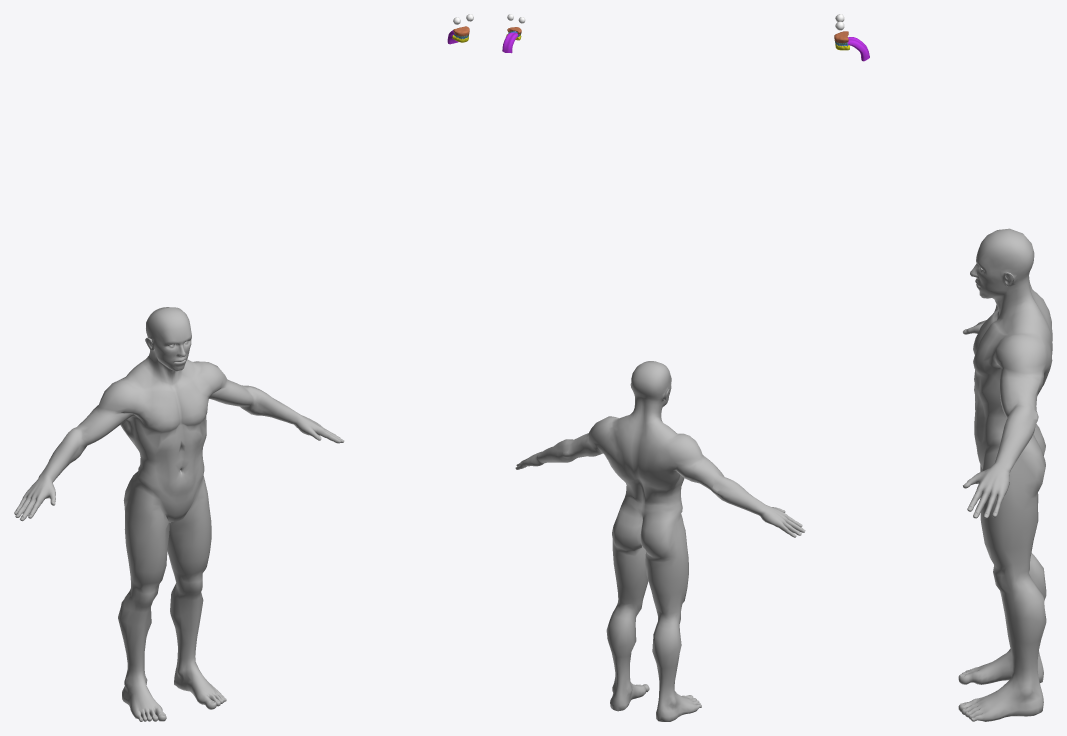
File: zadam.obj
The picture shows the model from 3 angles, left to right: view 1: azimuth 30°, elevation 25°; view 2: azimuth 150°, elevation 25°; view 3: azimuth 270°, elevation 25°; orthographic projection. The views are drawn at different scales.
Parts seen in each view (by area): view 1: Body_M_GeoRndr; view 2: Body_M_GeoRndr; view 3: Body_M_GeoRndr.
Boxes of the visible parts, x1,y1,x2,y2 form: Body_M_GeoRndr: (14,307,344,721); Body_M_GeoRndr: (515,361,805,721); Body_M_GeoRndr: (958,228,1052,721).
Bounding box in the file's own units: 19.5 × 32.11 × 7.85.
